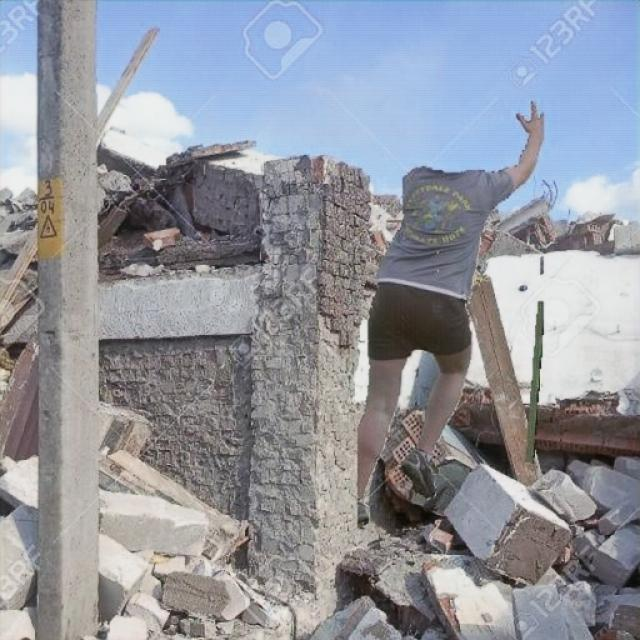Person in Rubble: (358, 101, 542, 528)
